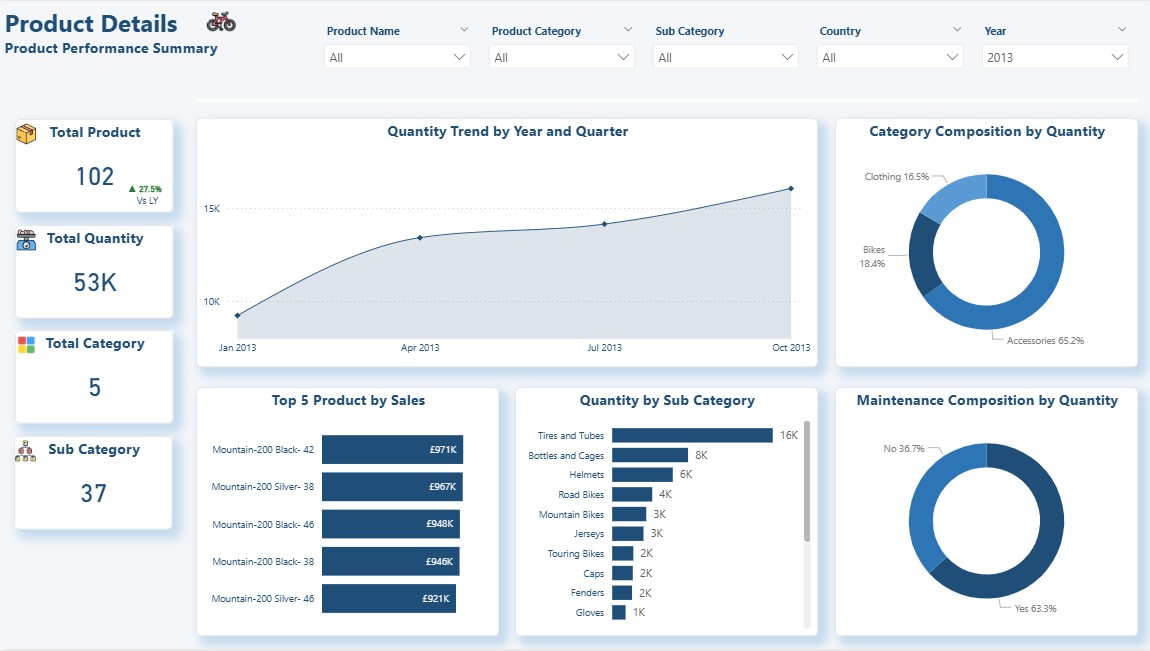

The dashboard page shown, as its layout file describes it:
{"tool":"powerbi","page":{"name":"Product Details","canvas":[1280,720],"ordinal":3},"visuals":[{"type":"textbox","box":[0,0,265.5,92.4],"z":0},{"type":"card","title":"Total Product","fields":{"Values":["_measures.Total Product"]},"box":[16.1,131,176.4,103.9],"z":0,"group":"g1"},{"type":"card","title":"Avg Sales Value","fields":{"Values":["_measures.YoY KPI prod"]},"box":[128,189.4,63.5,42.3],"z":0,"group":"g12"},{"type":"card","title":"Total Quantity","fields":{"Values":["_measures.Total Quantity"]},"box":[16.1,248.5,176.4,103.9],"z":0,"group":"g2"},{"type":"card","title":"Total Category","fields":{"Values":["_measures.Total Category"]},"box":[16.1,365.9,176.4,103.9],"z":0,"group":"g3"},{"type":"card","title":"Sub Category","fields":{"Values":["_measures.Total Sub Category"]},"box":[16,483.4,176.4,103.9],"z":0,"group":"g4"},{"type":"shape","box":[217.7,104.8,1047.2,12.1],"z":1000},{"type":"group","id":"g1","title":"Group 3","box":[16.1,131,176.4,103.8],"z":1000,"group":"g5"},{"type":"image","box":[16.9,132,22.9,30.5],"z":1000,"group":"g1"},{"type":"group","id":"g2","title":"Group 3","box":[16.1,248.5,176.4,103.8],"z":1000,"group":"g9"},{"type":"image","box":[16.9,249.5,22.9,30.5],"z":1000,"group":"g2"},{"type":"group","id":"g3","title":"Group 3","box":[16.1,365.9,176.4,103.8],"z":1000,"group":"g10"},{"type":"image","box":[16.9,366.9,22.9,30.5],"z":1000,"group":"g3"},{"type":"group","id":"g4","title":"Group 3","box":[16,483.4,176.4,103.8],"z":1000,"group":"g11"},{"type":"image","box":[16.8,484.4,22.9,30.5],"z":1000,"group":"g4"},{"type":"slicer","title":"Product Cate","fields":{"Values":["product.product_name"]},"box":[350,20,183.3,76.7],"z":2000},{"type":"slicer","title":"Product Cate","fields":{"Values":["customer.country"]},"box":[897.8,20,183.3,76.7],"z":3000},{"type":"slicer","title":"Product Cate","fields":{"Values":["calendar.Year"]},"box":[1081.1,20,183.3,76.7],"z":4000},{"type":"slicer","title":"Product Cate","fields":{"Values":["product.product_category"]},"box":[533.3,20,182.2,76.7],"z":5000},{"type":"image","box":[207.8,6.7,35.6,32.2],"z":6000},{"type":"lineChart","title":"Quantity Trend by Year and Quarter","fields":{"Category":["calendar.Date.Variation.Date Hierarchy.Year","calendar.Date.Variation.Date Hierarchy.Quarter","calendar.Date.Variation.Date Hierarchy.Month","calendar.Date.Variation.Date Hierarchy.Day"],"Y":["_measures.Total Quantity"]},"box":[217.8,130,691.1,276.7],"z":7000},{"type":"donutChart","title":"Category Composition by Quantity","fields":{"Category":["product.product_category"],"Y":["_measures.Total Quantity"]},"box":[927.8,130,336.7,276.7],"z":8000},{"type":"group","id":"g5","title":"Group 1","box":[16.1,131,176.4,103.8],"z":9000},{"type":"group","id":"g6","title":"Group 1","box":[16.1,248.5,176.4,103.8],"z":10000},{"type":"group","id":"g7","title":"Group 1","box":[16.1,365.9,176.4,103.8],"z":11000},{"type":"group","id":"g8","title":"Group 1","box":[16,483.4,176.4,103.8],"z":12000},{"type":"barChart","title":"Top 5 Product by Sales","fields":{"Y":["_measures.Total Sales"],"Category":["product.product_name"]},"box":[217.8,428.9,336.7,276.7],"z":13000},{"type":"clusteredBarChart","title":"Quantity by Sub Category","fields":{"Category":["product.subcategory"],"Y":["_measures.Total Quantity"]},"box":[572.2,428.9,336.7,276.7],"z":14000},{"type":"slicer","title":"Product Cate","fields":{"Values":["product.subcategory"]},"box":[715.6,20,182.2,76.7],"z":15000},{"type":"group","id":"g9","title":"Group 2","box":[16.1,248.5,176.4,103.8],"z":15001,"group":"g6"},{"type":"group","id":"g10","title":"Group 2","box":[16.1,365.9,176.4,103.8],"z":15001,"group":"g7"},{"type":"group","id":"g11","title":"Group 2","box":[16,483.4,176.4,103.8],"z":15001,"group":"g8"},{"type":"donutChart","title":"Maintenance Composition by Quantity","fields":{"Y":["_measures.Total Quantity"],"Category":["product.maintenance"]},"box":[927.8,428.9,336.7,276.7],"z":16000},{"type":"textbox","box":[146.1,206.5,38.3,27.2],"z":16001,"group":"g12"},{"type":"group","id":"g12","title":"Group 6","box":[128,189.4,63.5,44.3],"z":17000,"group":"g5"}]}

Visuals, with their boxes in screenshot pixels (x1, y1, x2, y2), scaled from the page's 1280x720 canvas onto the 1150x651 screenshot:
textbox: region(0, 0, 239, 84)
"Total Product" card: region(14, 118, 173, 212)
"Avg Sales Value" card: region(115, 171, 172, 209)
"Total Quantity" card: region(14, 225, 173, 319)
"Total Category" card: region(14, 331, 173, 425)
"Sub Category" card: region(14, 437, 173, 531)
shape: region(196, 95, 1136, 106)
"Group 3" group: region(14, 118, 173, 212)
image: region(15, 119, 36, 147)
"Group 3" group: region(14, 225, 173, 319)
image: region(15, 226, 36, 253)
"Group 3" group: region(14, 331, 173, 425)
image: region(15, 332, 36, 359)
"Group 3" group: region(14, 437, 173, 531)
image: region(15, 438, 36, 466)
"Product Cate" slicer: region(314, 18, 479, 87)
"Product Cate" slicer: region(807, 18, 971, 87)
"Product Cate" slicer: region(971, 18, 1136, 87)
"Product Cate" slicer: region(479, 18, 643, 87)
image: region(187, 6, 219, 35)
"Quantity Trend by Year and Quarter" lineChart: region(196, 118, 817, 368)
"Category Composition by Quantity" donutChart: region(834, 118, 1136, 368)
"Group 1" group: region(14, 118, 173, 212)
"Group 1" group: region(14, 225, 173, 319)
"Group 1" group: region(14, 331, 173, 425)
"Group 1" group: region(14, 437, 173, 531)
"Top 5 Product by Sales" barChart: region(196, 388, 498, 638)
"Quantity by Sub Category" clusteredBarChart: region(514, 388, 817, 638)
"Product Cate" slicer: region(643, 18, 807, 87)
"Group 2" group: region(14, 225, 173, 319)
"Group 2" group: region(14, 331, 173, 425)
"Group 2" group: region(14, 437, 173, 531)
"Maintenance Composition by Quantity" donutChart: region(834, 388, 1136, 638)
textbox: region(131, 187, 166, 211)
"Group 6" group: region(115, 171, 172, 211)
